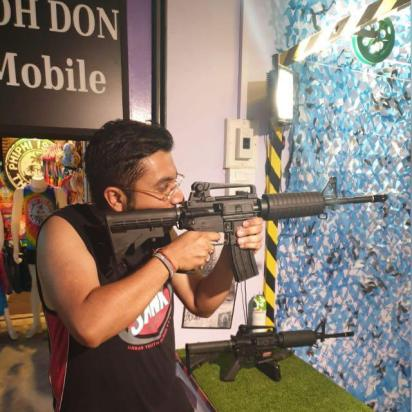Gun: (102, 175, 390, 285), (184, 319, 356, 384)
